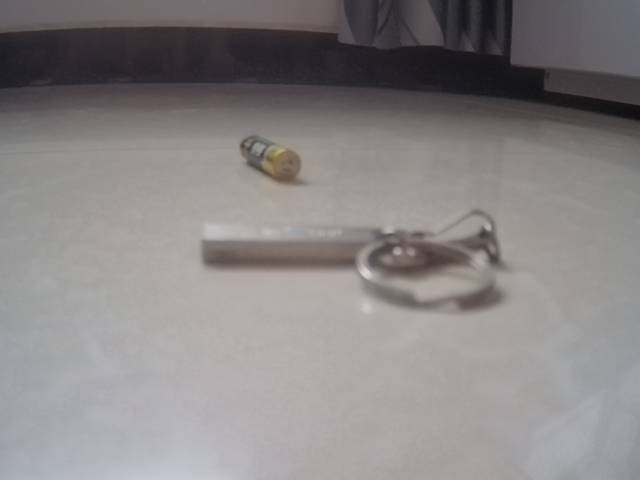U-disk: (198, 206, 510, 315)
battery: (231, 131, 307, 188)
